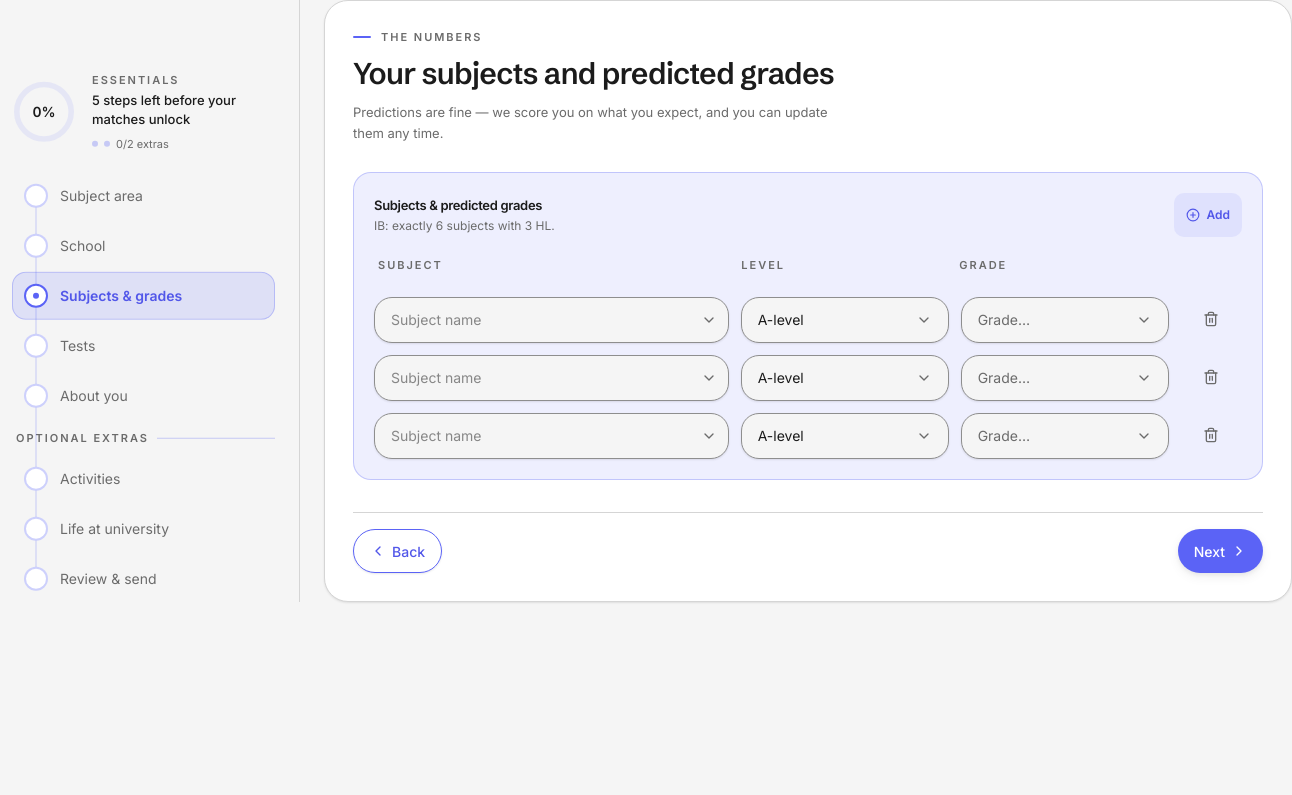
Scenario: step navigation › rail: jumping BACKWARDS skips validation
This screenshot has width=1292, height=795.
Click the button "Subject area" at (144, 196), box [12,172,275,220]
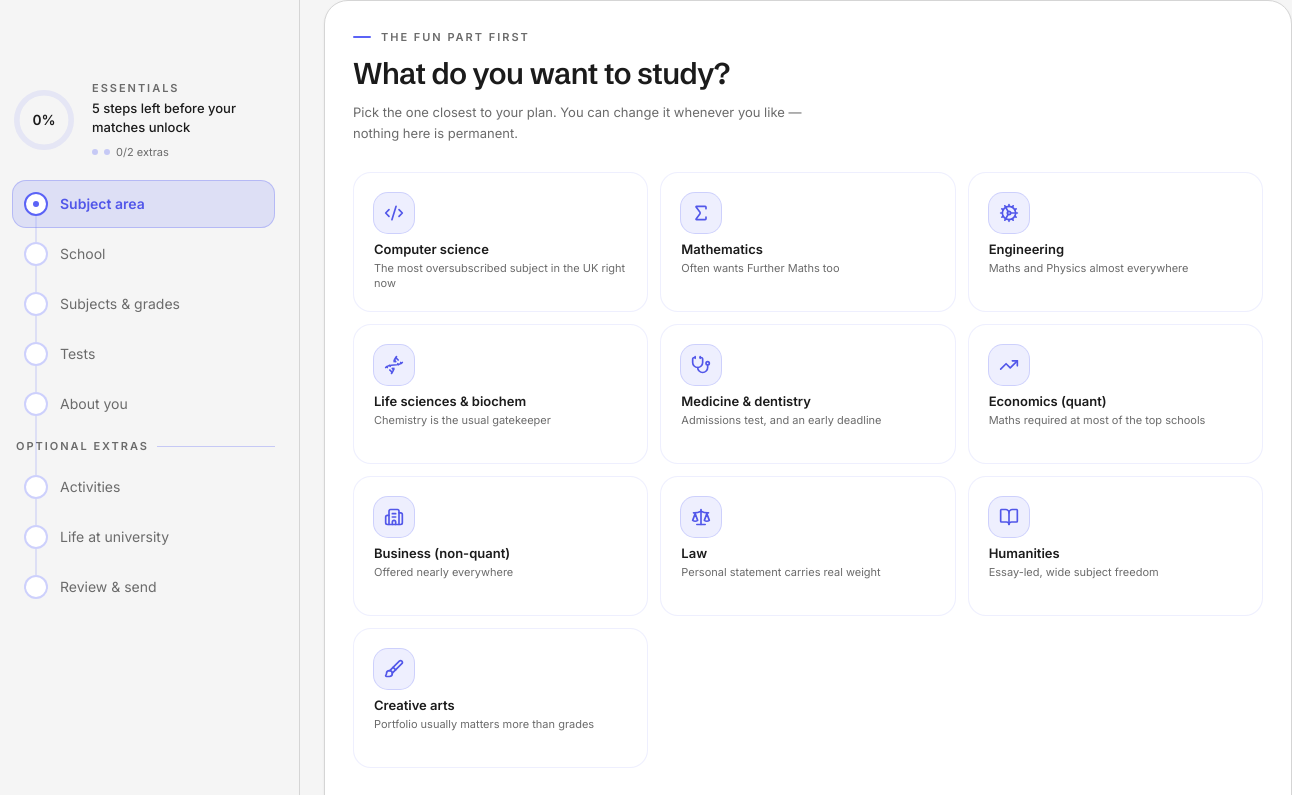
Result: the heading "What do you want to study?" is shown at [353,54,730,92]
